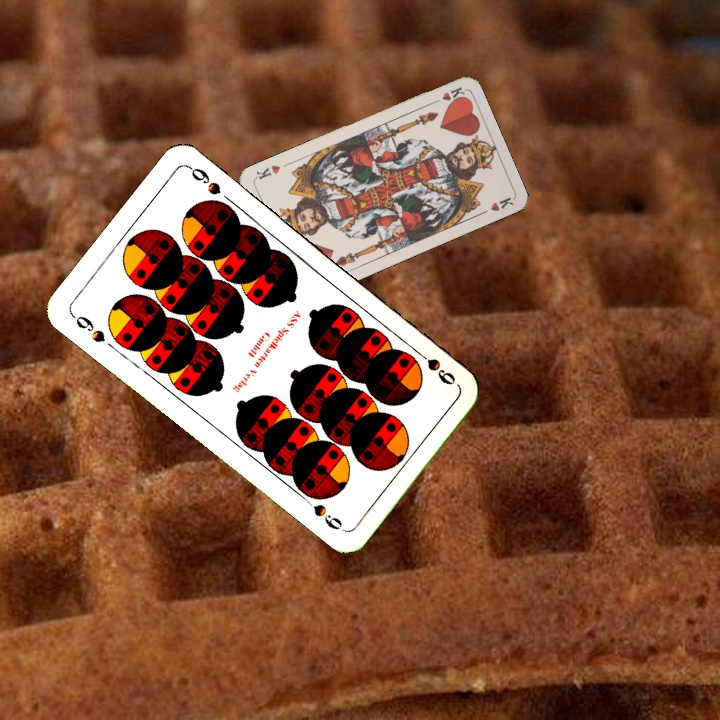HK: (427, 83, 467, 107)
S9: (410, 345, 459, 388), (67, 310, 108, 346)
